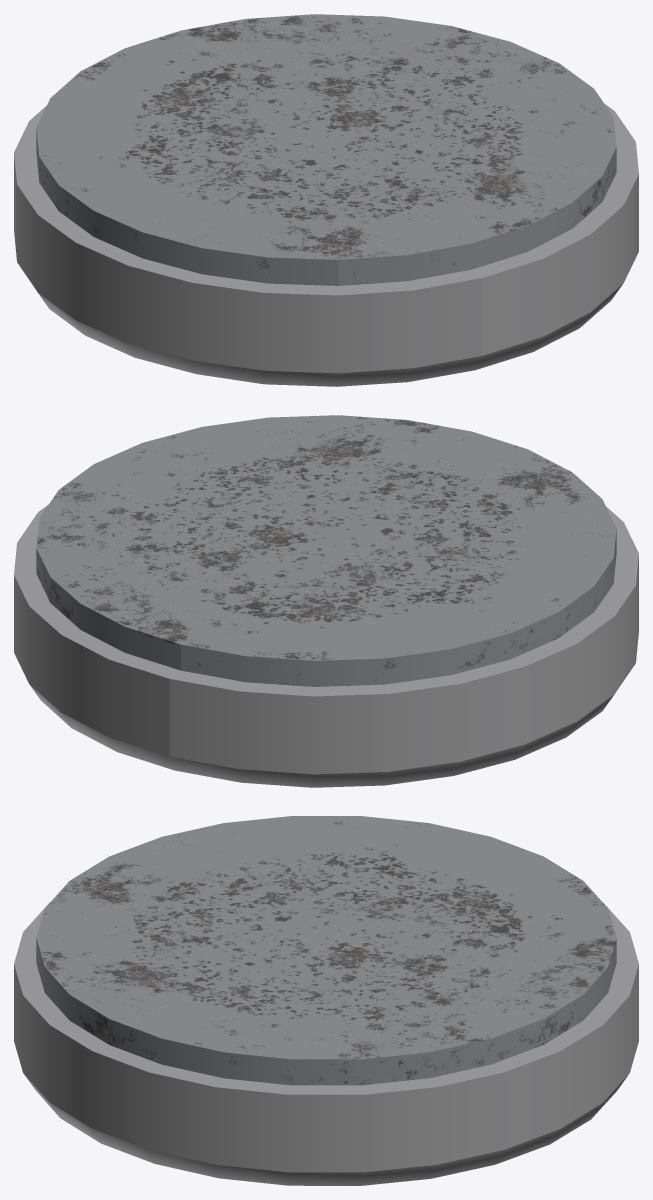
Rendered from SM_Ceiling_Light.fbx.
The picture shows the model from 3 angles, top to bottom: view 1: azimuth 30°, elevation 25°; view 2: azimuth 150°, elevation 25°; view 3: azimuth 270°, elevation 25°; orthographic projection.
Parts seen in each view (by area): view 1: SM_Ceiling_Light_LOD0; view 2: SM_Ceiling_Light_LOD0; view 3: SM_Ceiling_Light_LOD0.
Boxes of the visible parts, box(x1,y1,x2,y2) form: SM_Ceiling_Light_LOD0: box(14, 14, 638, 386); SM_Ceiling_Light_LOD0: box(14, 415, 638, 787); SM_Ceiling_Light_LOD0: box(14, 816, 638, 1185).
Size of the model in its own units: 74.87 by 75.42 by 17.96.
1 material, 1 textured.
